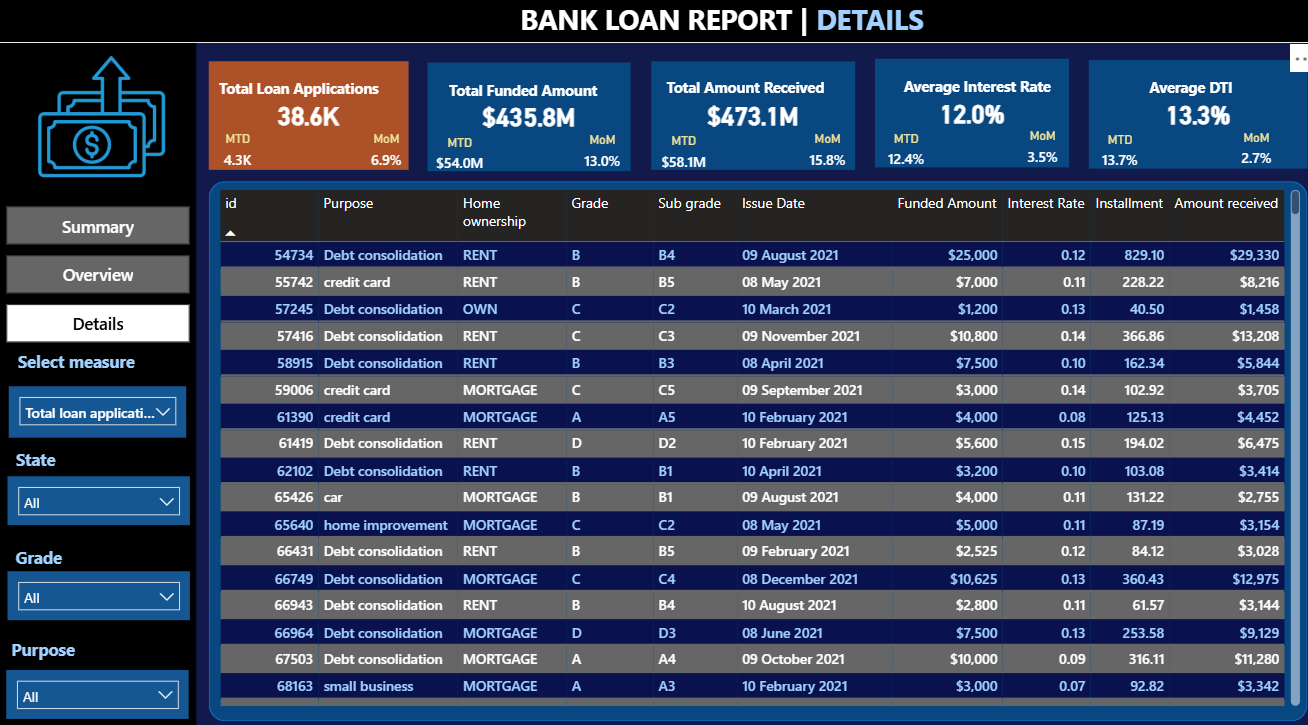

Layout of this report page (visuals, bound fields, positions):
{"tool":"powerbi","page":{"name":"Details","canvas":[1280,720],"ordinal":2},"visuals":[{"type":"shape","box":[2.4,54.3,191.8,664.5],"z":0},{"type":"shape","box":[206.2,189.3,1060.1,521],"z":1000},{"type":"shape","box":[0,0,1279.6,55],"z":2000},{"type":"textbox","box":[466.7,3.6,457.1,48.2],"z":3000},{"type":"card","fields":{"Values":["bank_loan_data.Average Interest Rate"]},"box":[848.8,71.1,187.6,104.9],"z":3000,"group":"g4"},{"type":"card","fields":{"Values":["bank_loan_data.Avg DTI"]},"box":[1055.4,72.2,211,104.9],"z":3000,"group":"g5"},{"type":"card","fields":{"Values":["bank_loan_data.Total Amount Reeceived"]},"box":[633.6,73.3,196.4,104.9],"z":3000,"group":"g3"},{"type":"card","fields":{"Values":["bank_loan_data.Total loan applications"]},"box":[206.1,73.6,192.5,104.9],"z":3000,"group":"g1"},{"type":"card","fields":{"Values":["bank_loan_data.Total funded amount"]},"box":[417.3,74.5,195.7,104.9],"z":3000,"group":"g2"},{"type":"group","id":"g1","title":"Group 1","box":[185.7,73.6,240,113.4],"z":4000},{"type":"textbox","box":[848.8,83.2,197.1,30.2],"z":4000,"group":"g4"},{"type":"textbox","box":[643.4,83.7,196.6,31.4],"z":4000,"group":"g3"},{"type":"textbox","box":[1055.4,84.3,197.1,30.2],"z":4000,"group":"g5"},{"type":"textbox","box":[433.4,86,189.3,30.2],"z":4000,"group":"g2"},{"type":"textbox","box":[211,86.1,202.1,30.2],"z":4000,"group":"g1"},{"type":"group","id":"g2","title":"Group 1","box":[395.9,74.5,240,113.4],"z":5000},{"type":"card","title":"MTD","fields":{"Values":["bank_loan_data.MTD Loan Applications"]},"box":[185.7,141.6,96.8,45.8],"z":5000,"group":"g1"},{"type":"card","title":"MTD","fields":{"Values":["bank_loan_data.MTD Avg Int Rate"]},"box":[828.2,141.6,101.3,38.6],"z":5000,"group":"g4"},{"type":"card","title":"MTD","fields":{"Values":["bank_loan_data.MTD Avg DTI"]},"box":[1034.8,142.7,101.3,38.6],"z":5000,"group":"g5"},{"type":"card","title":"MTD","fields":{"Values":["bank_loan_data.MTD Total Amount Received"]},"box":[612.1,143.8,106.1,38.6],"z":5000,"group":"g3"},{"type":"card","title":"MTD","fields":{"Values":["bank_loan_data.MTD funded amount"]},"box":[395.9,145,105.7,38.6],"z":5000,"group":"g2"},{"type":"group","id":"g3","title":"Group 1","box":[612.1,73.3,240.9,113.4],"z":6000},{"type":"card","title":"MoM","fields":{"Values":["bank_loan_data.MoM Avg Int Rate"]},"box":[963.8,138.6,94.5,45.8],"z":6000,"group":"g4"},{"type":"card","title":"MoM","fields":{"Values":["bank_loan_data.MoM Avg DTI"]},"box":[1170.4,139.7,94.5,45.8],"z":6000,"group":"g5"},{"type":"card","title":"MoM","fields":{"Values":["bank_loan_data.MoM Total received amount"]},"box":[754.1,140.8,98.9,45.8],"z":6000,"group":"g3"},{"type":"card","title":"MoM","fields":{"Values":["bank_loan_data.MoM Loan Application"]},"box":[328.9,141.6,96.8,45.8],"z":6000,"group":"g1"},{"type":"card","title":"MoM","fields":{"Values":["bank_loan_data.MoM Total funded amount"]},"box":[537.3,142,98.6,45.8],"z":6000,"group":"g2"},{"type":"group","id":"g4","title":"Group 1","box":[828.2,71.1,230.4,113.4],"z":7000},{"type":"group","id":"g5","title":"Group 1","box":[1034.8,72.2,231.6,113.4],"z":8000},{"type":"textbox","box":[224.3,193,214.7,41],"z":9000},{"type":"textbox","box":[758.6,197.8,214.7,41],"z":10000},{"type":"shape","box":[0,0,1279.6,55.5],"z":11000},{"type":"slicer","fields":{"Values":["bank_loan_data.address_state"]},"box":[12.5,474.5,176.1,47],"z":12000},{"type":"slicer","fields":{"Values":["bank_loan_data.grade"]},"box":[12.5,566.1,176.1,47],"z":13000},{"type":"slicer","fields":{"Values":["bank_loan_data.purpose"]},"box":[11.3,661.4,176.1,47],"z":14000},{"type":"textbox","box":[11.3,441.9,56.7,41],"z":15000},{"type":"textbox","box":[2.9,537.2,79.6,41],"z":16000},{"type":"textbox","box":[2.9,625.2,88,41],"z":17000},{"type":"textbox","box":[501.7,9.6,535.5,45.8],"z":18000},{"type":"textbox","box":[0,347.3,156.8,41],"z":19000},{"type":"slicer","fields":{"Values":["Select measure.Select measure"]},"box":[13.7,387.6,171.3,49.4],"z":20000},{"type":"tableEx","fields":{"Values":["bank_loan_data.id","bank_loan_data.purpose","bank_loan_data.home_ownership","bank_loan_data.grade","bank_loan_data.sub_grade","bank_loan_data.issue_date","bank_loan_data.Total funded amount","Sum(bank_loan_data.int_rate)","Sum(bank_loan_data.installment)","bank_loan_data.Total Amount Received"]},"box":[211.1,193,1052.9,507.7],"z":21000},{"type":"pageNavigator","box":[10.9,213.5,177.3,133.9],"z":22000},{"type":"image","box":[13.3,51.9,178.5,150.8],"z":23000}]}

Visuals, with their boxes in screenshot pixels (x1, y1, x2, y2), scaled from the page's 1280x720 canvas onto the 1308x725 screenshot:
shape: BBox(2, 55, 198, 724)
shape: BBox(211, 191, 1294, 715)
shape: BBox(0, 0, 1307, 55)
textbox: BBox(477, 4, 944, 52)
card - bank_loan_data.Average Interest Rate: BBox(867, 72, 1059, 177)
card - bank_loan_data.Avg DTI: BBox(1078, 73, 1294, 178)
card - bank_loan_data.Total Amount Reeceived: BBox(647, 74, 848, 179)
card - bank_loan_data.Total loan applications: BBox(211, 74, 407, 180)
card - bank_loan_data.Total funded amount: BBox(426, 75, 626, 181)
"Group 1" group: BBox(190, 74, 435, 188)
textbox: BBox(867, 84, 1069, 114)
textbox: BBox(657, 84, 858, 116)
textbox: BBox(1078, 85, 1280, 115)
textbox: BBox(443, 87, 636, 117)
textbox: BBox(216, 87, 422, 117)
"Group 1" group: BBox(405, 75, 650, 189)
"MTD" card: BBox(190, 143, 289, 189)
"MTD" card: BBox(846, 143, 950, 181)
"MTD" card: BBox(1057, 144, 1161, 183)
"MTD" card: BBox(625, 145, 734, 184)
"MTD" card: BBox(405, 146, 513, 185)
"Group 1" group: BBox(625, 74, 872, 188)
"MoM" card: BBox(985, 140, 1081, 186)
"MoM" card: BBox(1196, 141, 1293, 187)
"MoM" card: BBox(771, 142, 872, 188)
"MoM" card: BBox(336, 143, 435, 189)
"MoM" card: BBox(549, 143, 650, 189)
"Group 1" group: BBox(846, 72, 1082, 186)
"Group 1" group: BBox(1057, 73, 1294, 187)
textbox: BBox(229, 194, 449, 236)
textbox: BBox(775, 199, 995, 240)
shape: BBox(0, 0, 1307, 56)
slicer - bank_loan_data.address_state: BBox(13, 478, 193, 525)
slicer - bank_loan_data.grade: BBox(13, 570, 193, 617)
slicer - bank_loan_data.purpose: BBox(12, 666, 191, 713)
textbox: BBox(12, 445, 69, 486)
textbox: BBox(3, 541, 84, 582)
textbox: BBox(3, 630, 93, 671)
textbox: BBox(513, 10, 1060, 56)
textbox: BBox(0, 350, 160, 391)
slicer - Select measure.Select measure: BBox(14, 390, 189, 440)
tableEx - bank_loan_data.id x bank_loan_data.purpose: BBox(216, 194, 1292, 706)
pageNavigator: BBox(11, 215, 192, 350)
image: BBox(14, 52, 196, 204)
